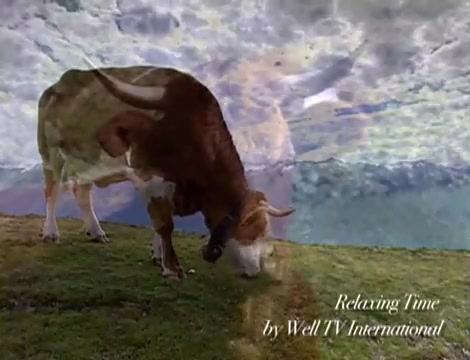cow: (35, 68, 298, 286)
